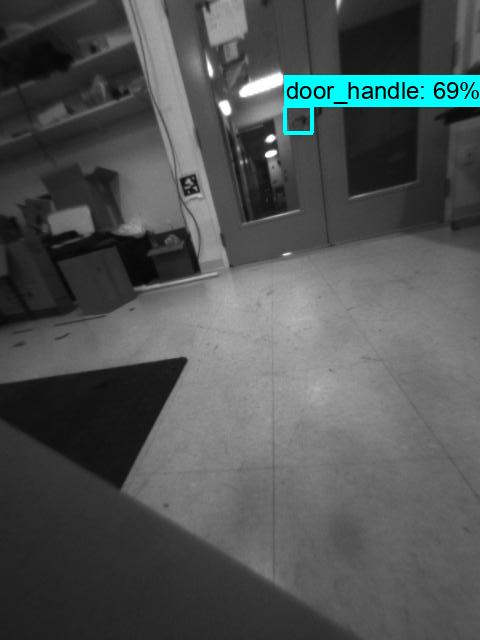door_handle: (285, 107, 313, 133)
